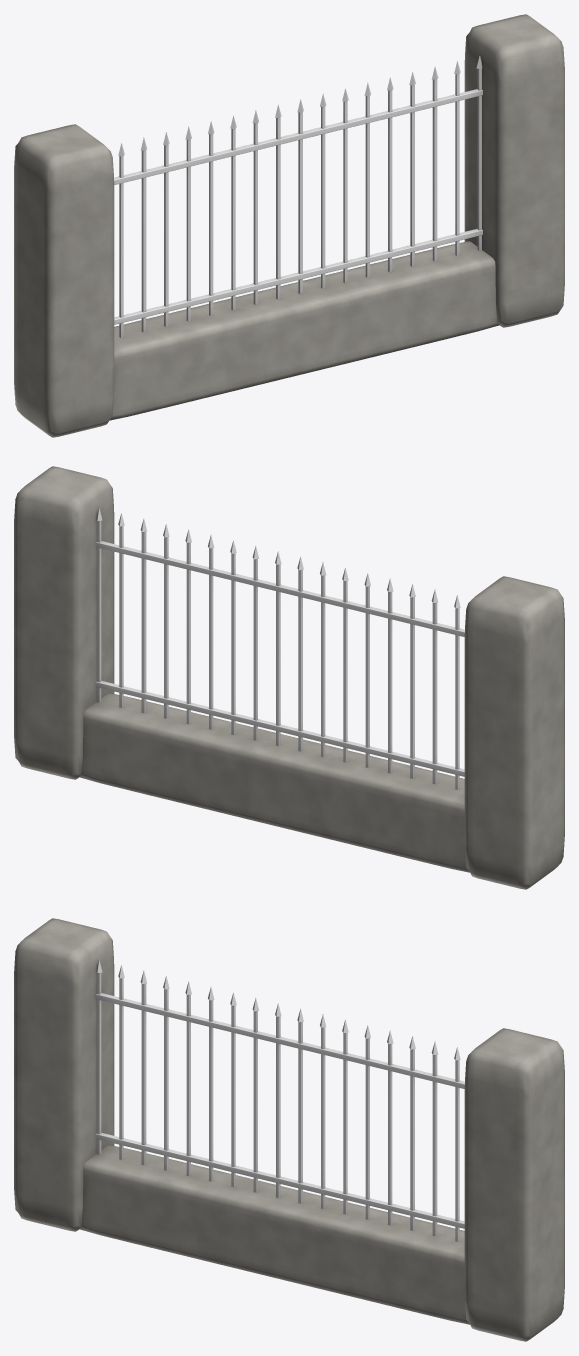
File: wrought-iron.glb
The picture shows the model from 3 angles, top to bottom: view 1: azimuth 30°, elevation 25°; view 2: azimuth 150°, elevation 25°; view 3: azimuth 330°, elevation 25°; orthographic projection.
Visible parts, largest first — view 1: stone_base, paint_primary; view 2: stone_base, paint_primary; view 3: stone_base, paint_primary.
Boxes of the visible parts, x1,y1,x2,y2 form: stone_base: [14, 14, 564, 437]; paint_primary: [114, 55, 482, 337]; stone_base: [14, 466, 564, 889]; paint_primary: [96, 507, 464, 789]; stone_base: [14, 918, 564, 1341]; paint_primary: [96, 959, 464, 1241].
Bounding box in the file's own units: 3.1 × 1.6 × 0.4.
2 materials, 2 textured.
